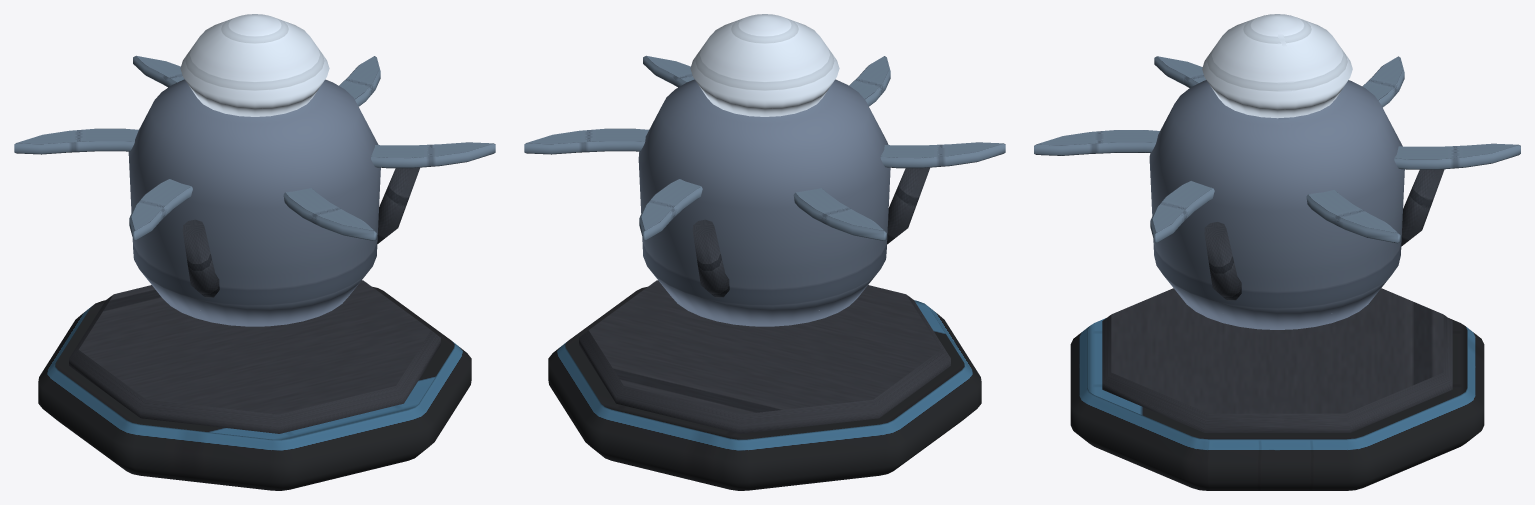
The model's file is focus.glb.
The picture shows the model from 3 angles, left to right: view 1: azimuth 30°, elevation 25°; view 2: azimuth 150°, elevation 25°; view 3: azimuth 270°, elevation 25°; orthographic projection.
Parts seen in each view (by area): view 1: FocusHull; view 2: FocusHull; view 3: FocusHull.
Part boxes in pixels (x1,y1,x2,y2): FocusHull: (14, 14, 495, 490); FocusHull: (524, 14, 1005, 490); FocusHull: (1034, 14, 1520, 490).
Size of the model in its own units: 0.3704 by 0.38 by 0.426.
Materials: 1 (1 with a texture image).
